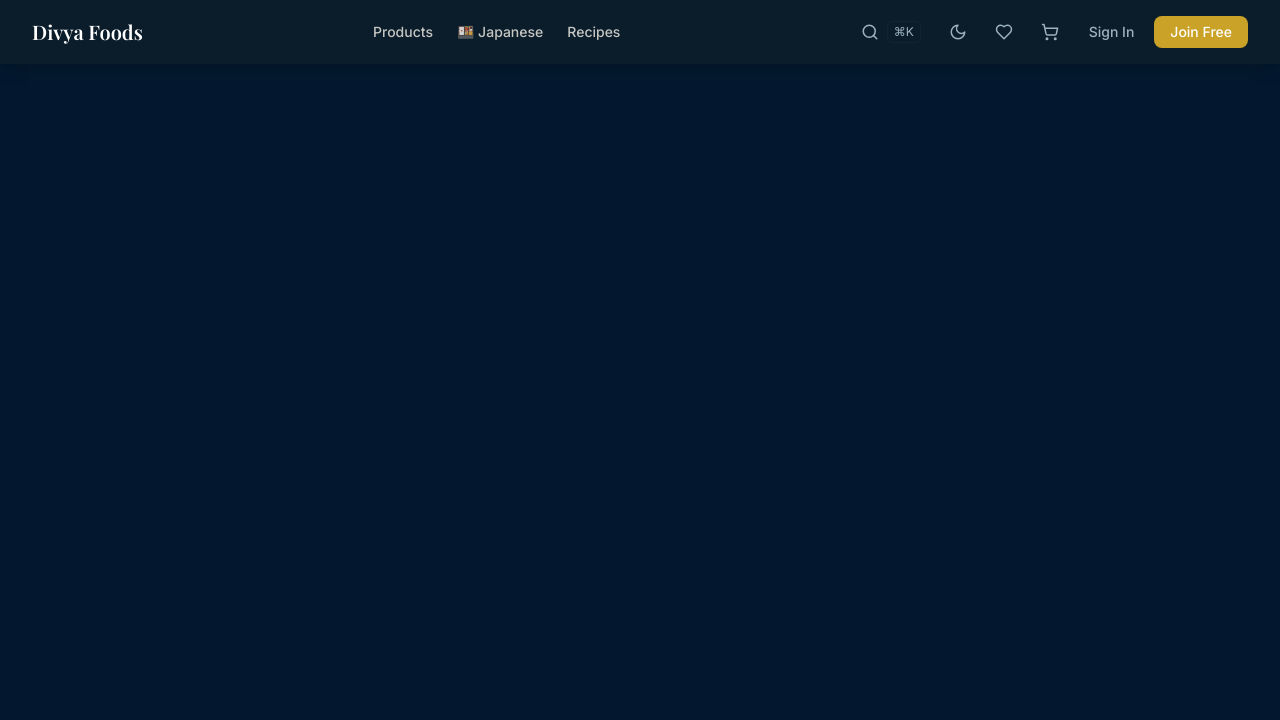
Test case: Navbar › opens the global search overlay from the search button
Click the button named "Search products (Ctrl+K)".
click(891, 32)  # box 851,11 -> 931,53
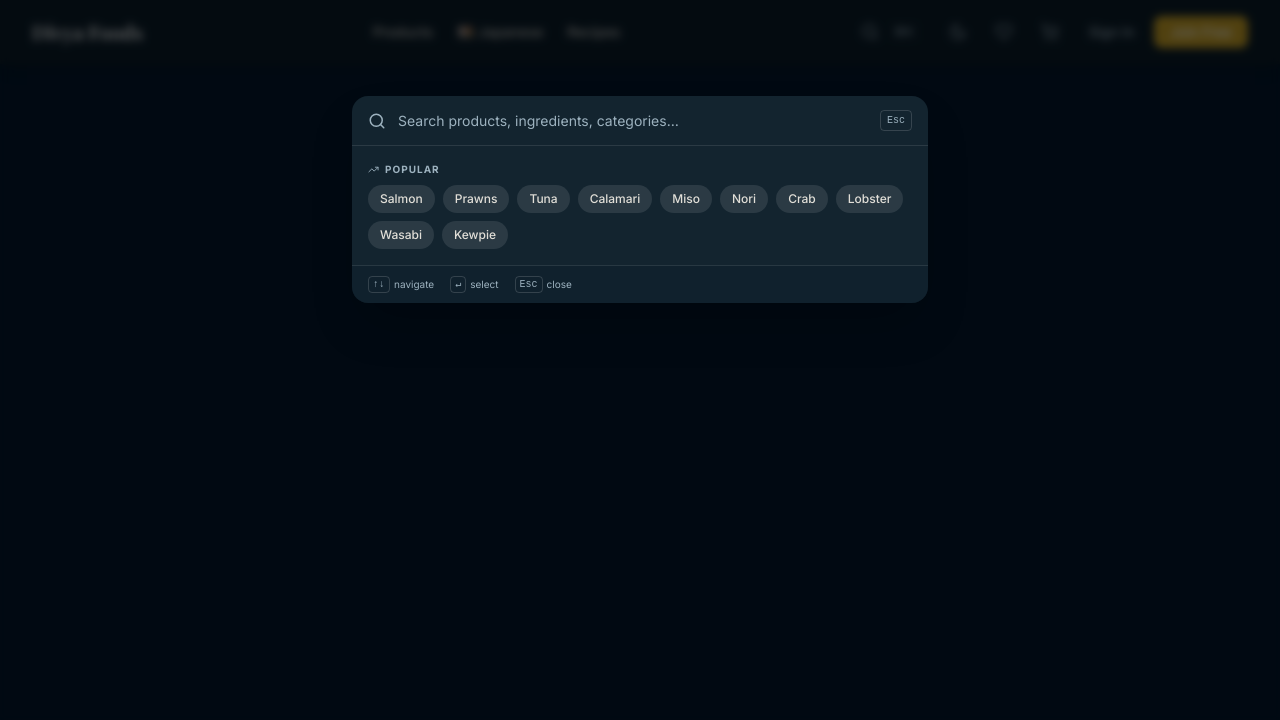
Expected: the dialog named "Search products" is shown
